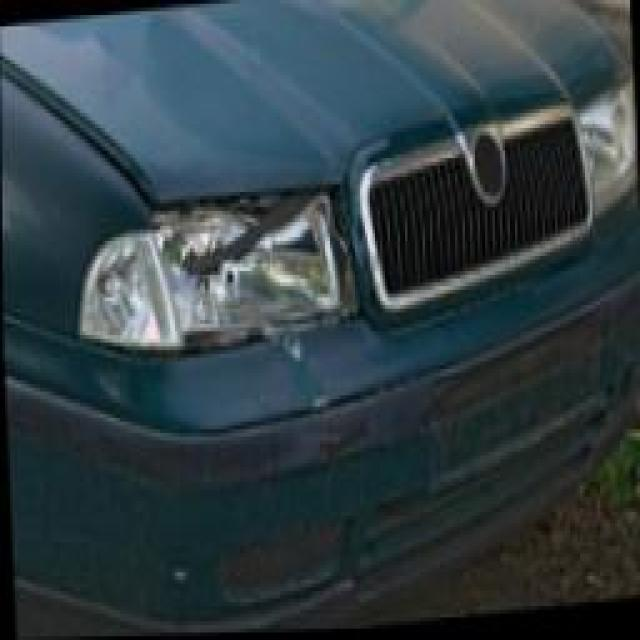Light: (128, 192, 339, 333)
